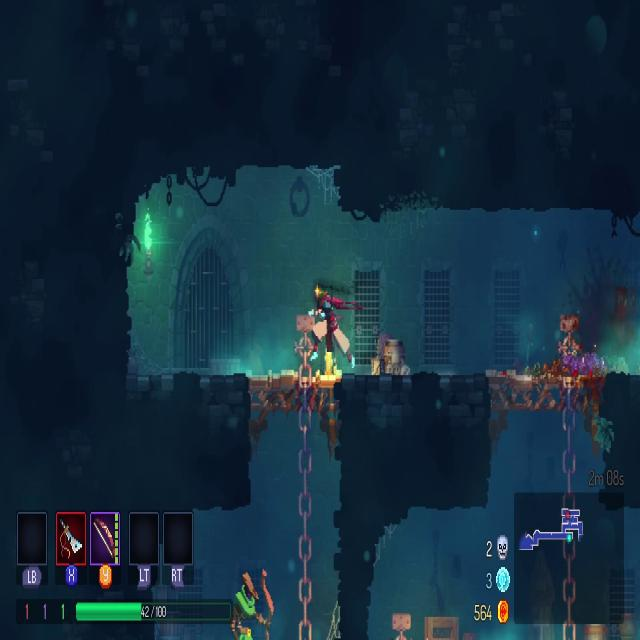agents: (312, 284, 355, 376)
enemy_archer: (231, 571, 272, 638)
